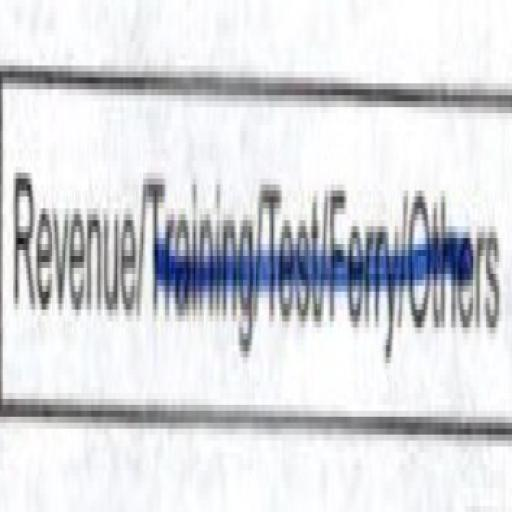check: (0, 5, 140, 470)
